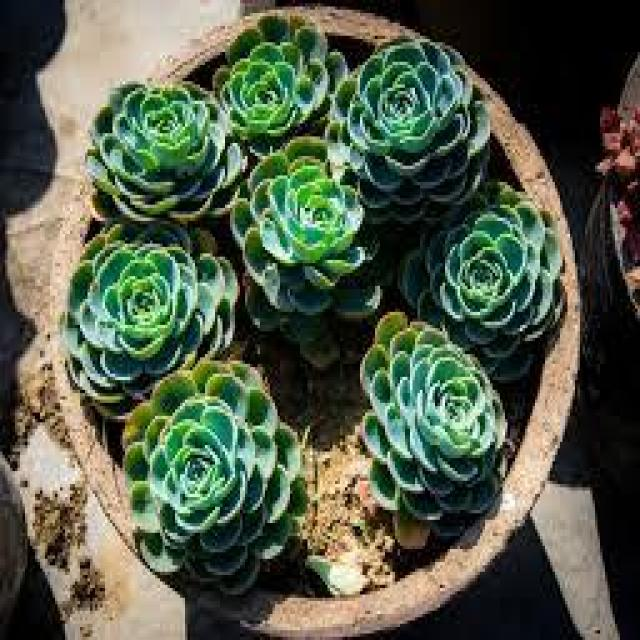organic waste: (121, 353, 309, 596), (340, 308, 515, 530), (60, 196, 242, 392), (395, 164, 567, 349), (228, 120, 380, 306), (312, 36, 486, 198), (85, 70, 240, 213), (208, 8, 330, 135)
